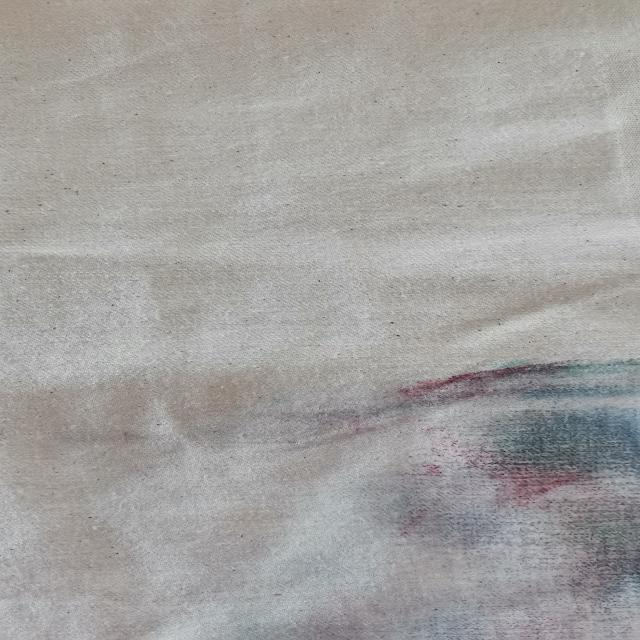taaaches: (246, 355, 640, 640)
